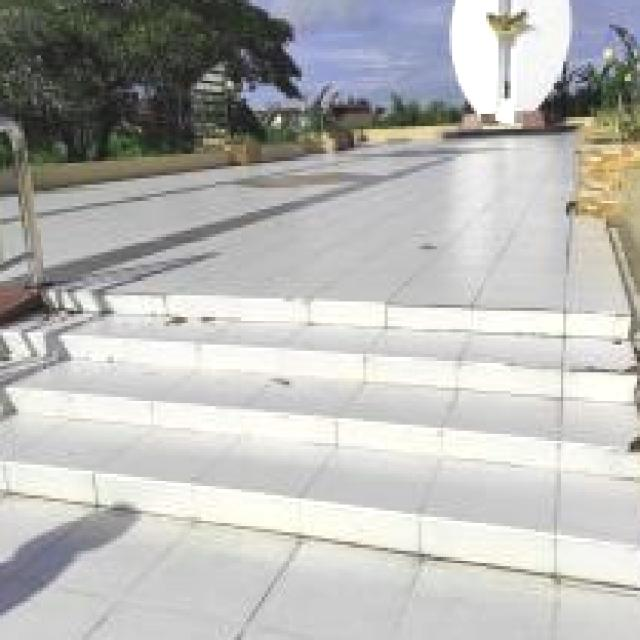upstair: (47, 275, 640, 607)
